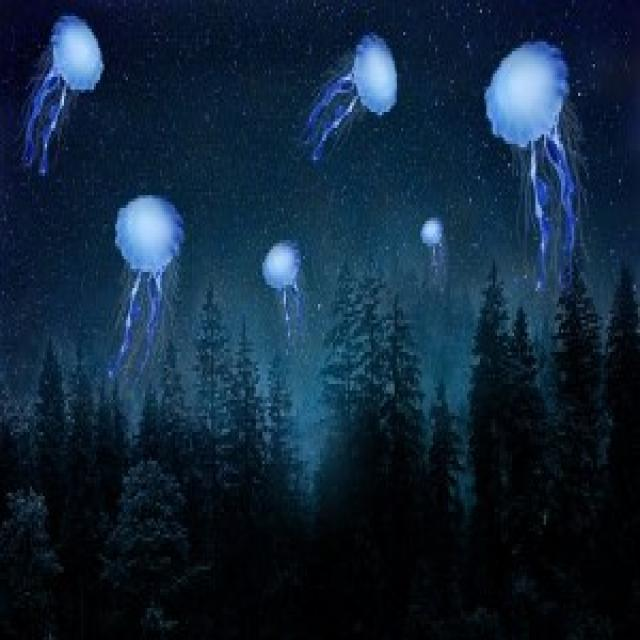Jellyfish: (488, 32, 586, 252), (25, 22, 107, 161), (321, 37, 404, 156), (111, 197, 185, 319), (255, 232, 312, 328), (416, 204, 452, 298)
